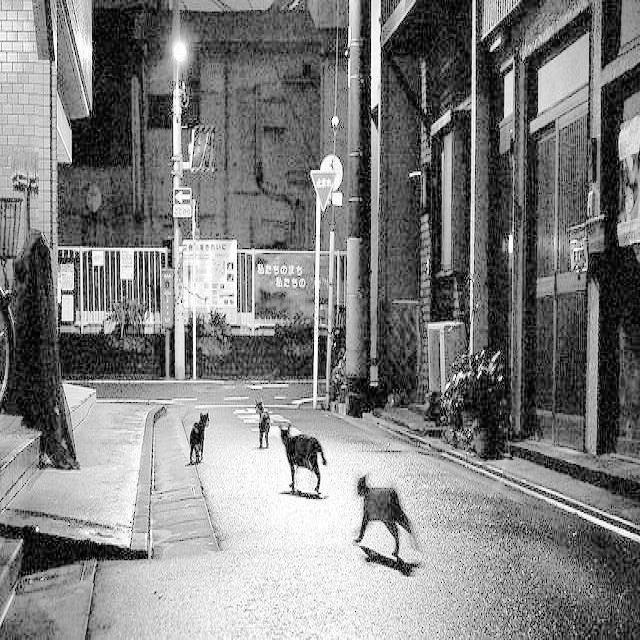Cat: (345, 456, 426, 598), (279, 422, 328, 508), (186, 407, 219, 470), (253, 391, 281, 463)
